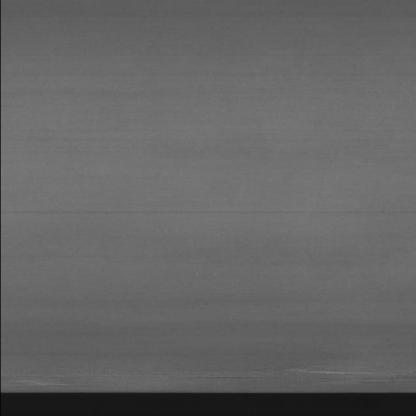silk_spot: (274, 359, 385, 385), (11, 371, 80, 391)
